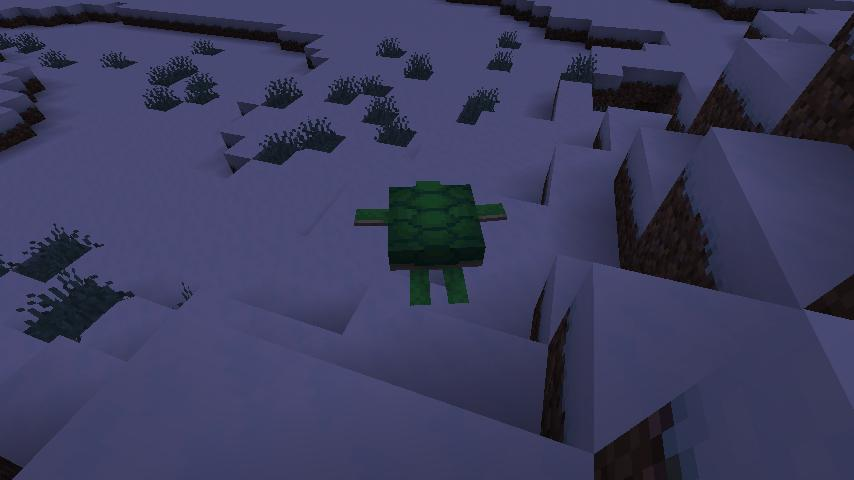turtle: (346, 174, 513, 312)
